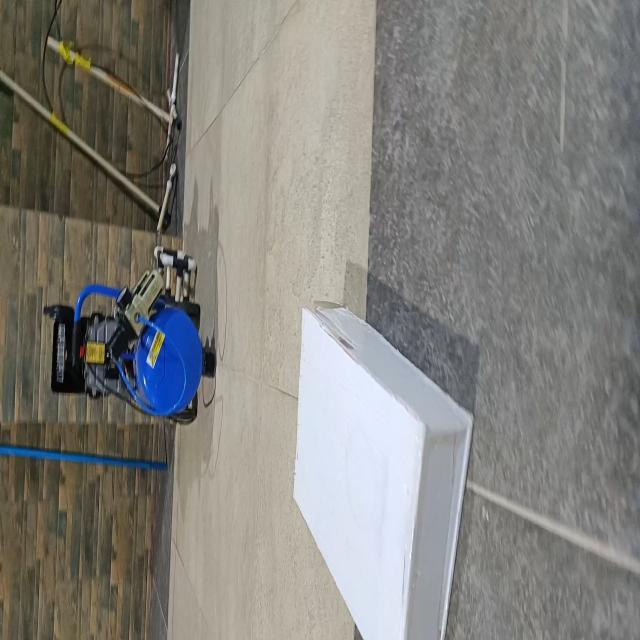Cuboid: (292, 299, 474, 638)
